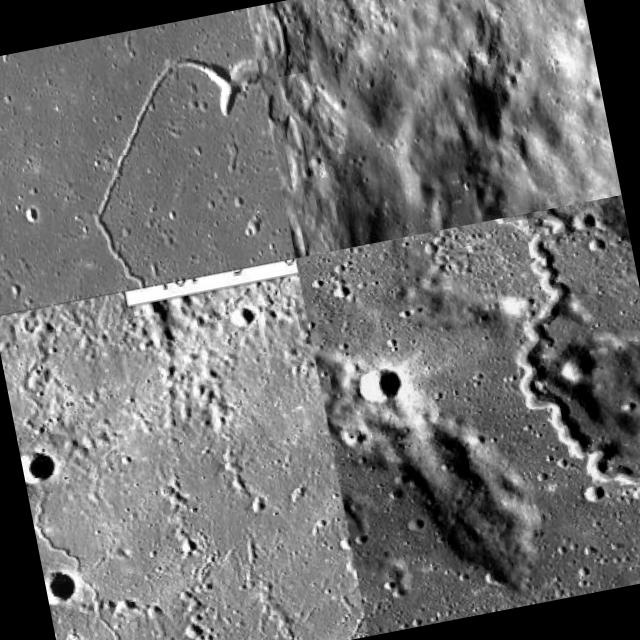crater: (297, 196, 640, 567), (0, 8, 295, 316), (31, 483, 147, 640), (265, 0, 308, 77)
